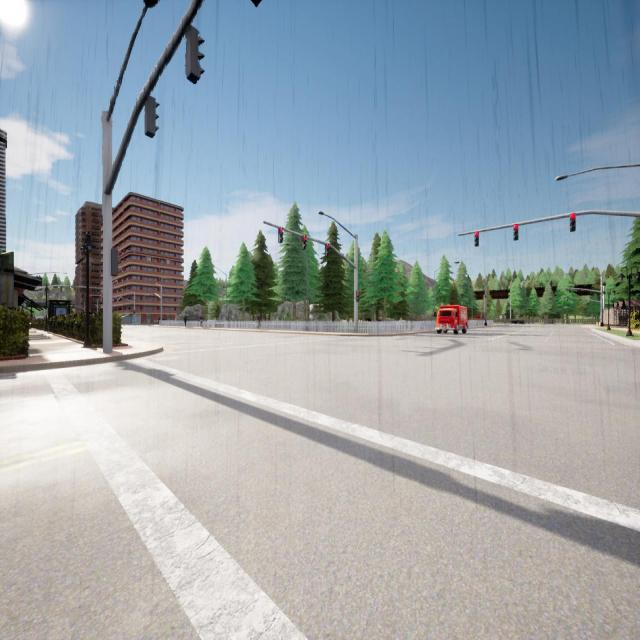Pedestrian: (257, 313, 260, 329), (184, 314, 187, 327), (200, 314, 203, 326)
Traffic_Signs: (499, 315, 502, 319)
Vehicle: (437, 306, 467, 334), (512, 319, 524, 325)
traffic_light: (187, 26, 204, 84), (145, 98, 159, 138), (111, 249, 118, 275), (570, 214, 576, 232), (278, 226, 282, 242), (514, 224, 518, 240), (302, 236, 306, 250), (474, 232, 478, 246), (325, 243, 329, 256), (356, 290, 359, 302), (90, 294, 92, 298), (101, 295, 103, 299), (569, 288, 570, 292), (134, 310, 135, 313), (557, 300, 558, 302), (567, 300, 568, 302), (580, 299, 581, 301)
